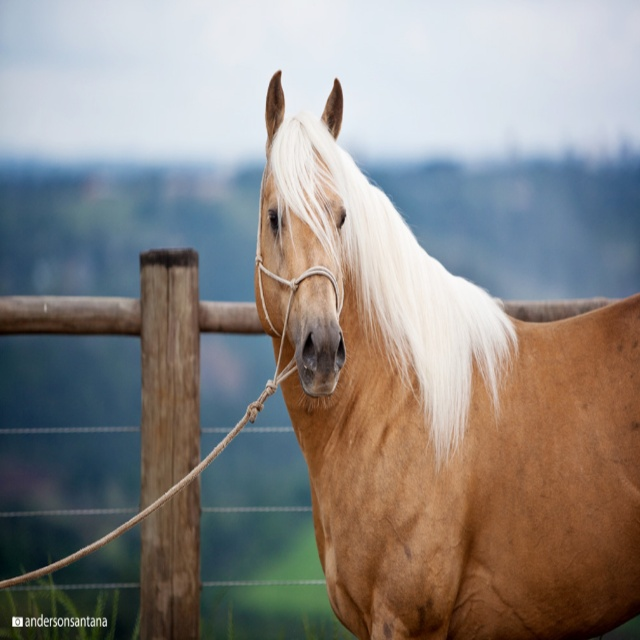Horse: (252, 69, 639, 639)
